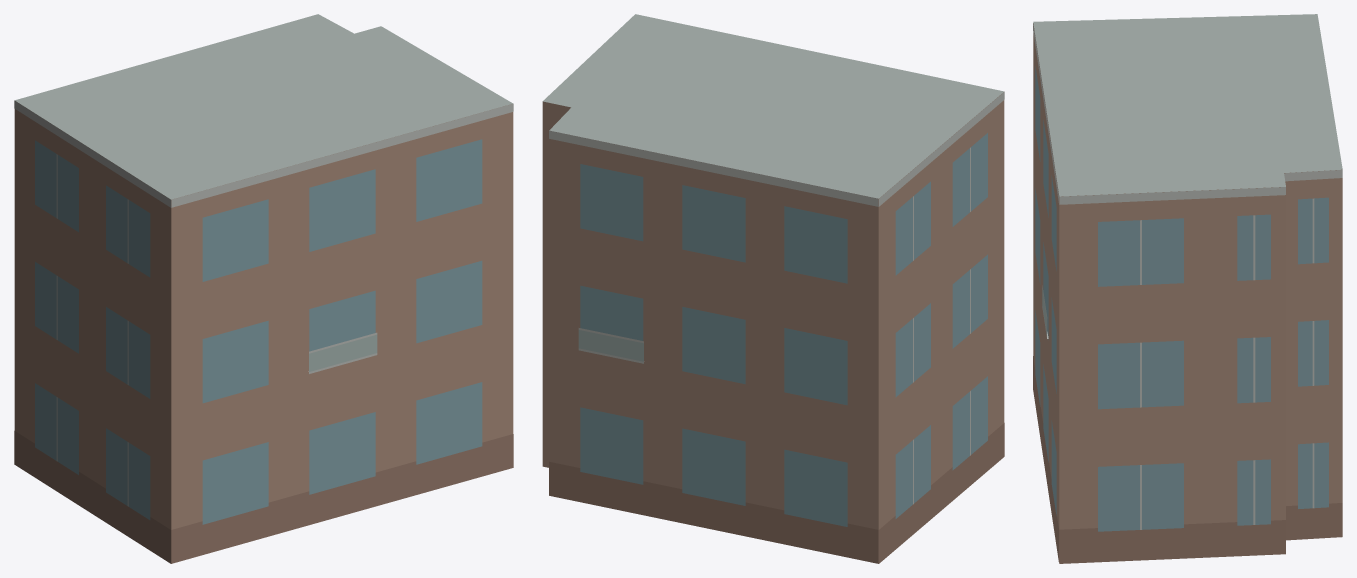
Rendered from survey-upis-33006470.glb.
3 views of the same model, side by side, from view 1: azimuth 30°, elevation 25°; view 2: azimuth 150°, elevation 25°; view 3: azimuth 270°, elevation 25° (orthographic).
Parts seen in each view (by area): view 1: survey-upis-33006470.tmp; view 2: survey-upis-33006470.tmp; view 3: survey-upis-33006470.tmp.
Boxes of the visible parts, box(x1,y1,x2,y2) form: survey-upis-33006470.tmp: box(14, 14, 513, 563); survey-upis-33006470.tmp: box(542, 14, 1004, 563); survey-upis-33006470.tmp: box(1033, 14, 1342, 563).
Bounding box in the file's own units: 11.52 × 10.8 × 8.26.
